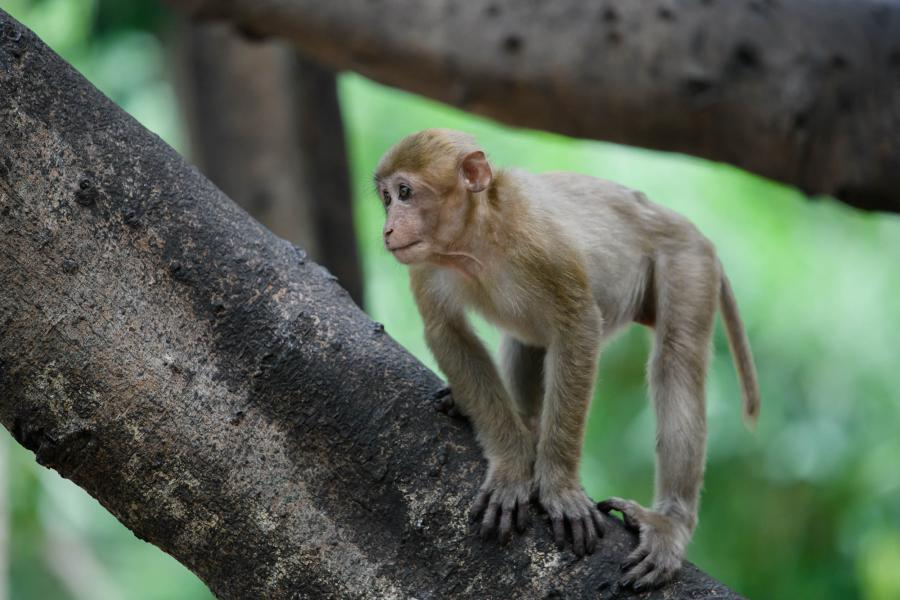monkey: (355, 124, 777, 588)
